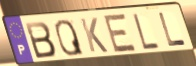B: (23, 20, 58, 60)
E: (103, 12, 139, 54)
K: (78, 17, 110, 54)
L: (131, 12, 162, 51), (157, 11, 188, 47)
Q: (54, 18, 86, 58)
